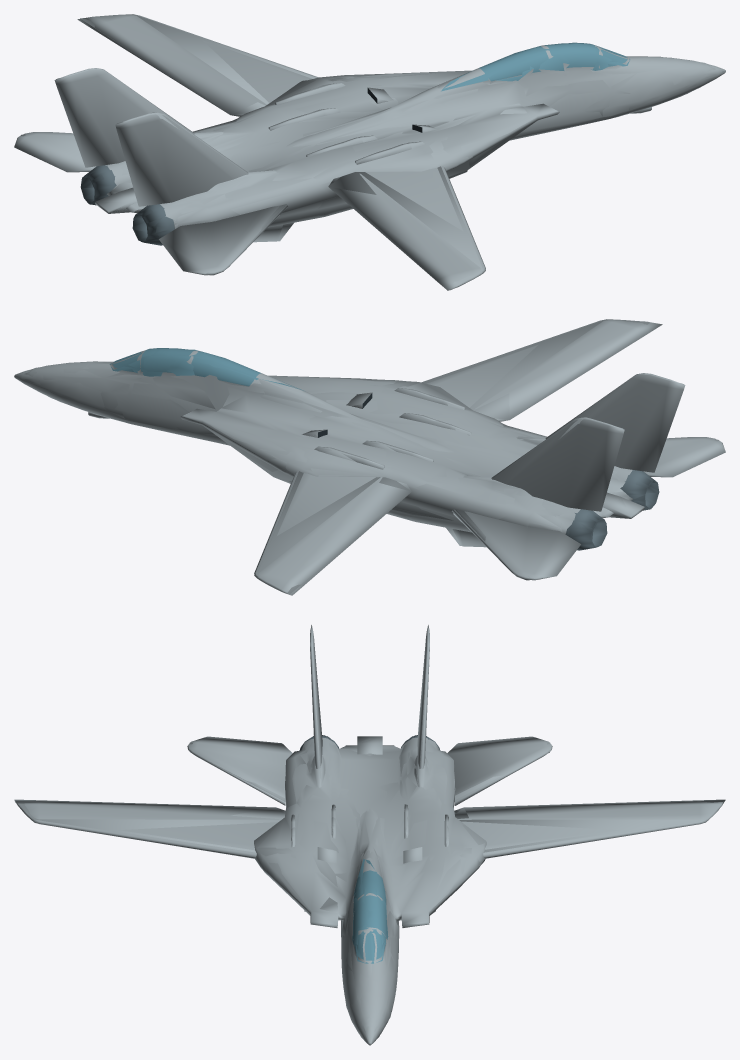
The model's file is navalFighter_nato.glb.
The picture shows the model from 3 angles, top to bottom: view 1: azimuth 30°, elevation 25°; view 2: azimuth 150°, elevation 25°; view 3: azimuth 270°, elevation 25°; orthographic projection. The views are drawn at different scales.
Parts seen in each view (by area): view 1: f14_tomcat.005, f14_tomcat.008, f14_tomcat.001, f14_tomcat.004, f14_tomcat.007, f14_tomcat.010; view 2: f14_tomcat.005, f14_tomcat.008, f14_tomcat.001, f14_tomcat.007, f14_tomcat.004, f14_tomcat.010; view 3: f14_tomcat.005, f14_tomcat.008, f14_tomcat.001, f14_tomcat.004.
Part boxes in pixels (x1,y1,x2,y2): f14_tomcat.005: (14, 14, 725, 290); f14_tomcat.008: (20, 14, 725, 290); f14_tomcat.001: (479, 43, 627, 81); f14_tomcat.004: (441, 42, 630, 91); f14_tomcat.007: (81, 165, 174, 245); f14_tomcat.010: (80, 169, 174, 244); f14_tomcat.005: (14, 319, 725, 595); f14_tomcat.008: (14, 319, 719, 594); f14_tomcat.001: (112, 348, 261, 386); f14_tomcat.007: (568, 470, 658, 550); f14_tomcat.004: (109, 348, 303, 390); f14_tomcat.010: (565, 474, 659, 548); f14_tomcat.005: (14, 625, 725, 1045); f14_tomcat.008: (15, 625, 724, 1044); f14_tomcat.001: (353, 870, 386, 960); f14_tomcat.004: (352, 859, 388, 963).
Bounding box in the file's own units: 9.4 × 2.3 × 9.42.
